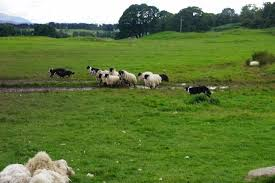sheep: (1, 156, 32, 183), (29, 164, 61, 183), (32, 145, 51, 167), (116, 70, 139, 87), (143, 76, 162, 90), (101, 73, 120, 85), (84, 66, 102, 77), (109, 66, 118, 77), (96, 70, 105, 78), (138, 70, 148, 77)
